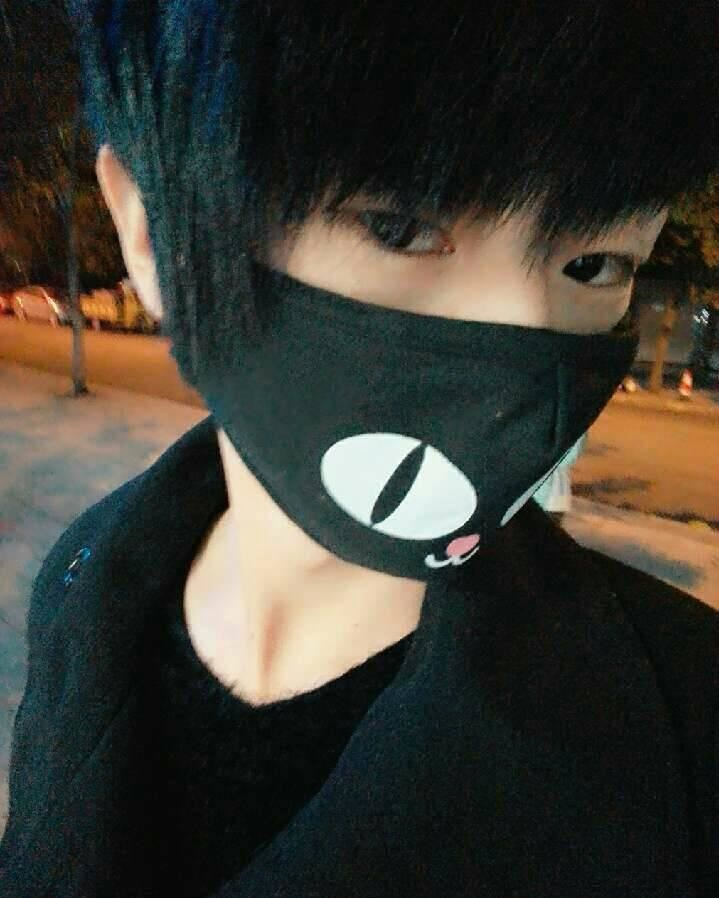face_mask: (268, 98, 667, 573)
